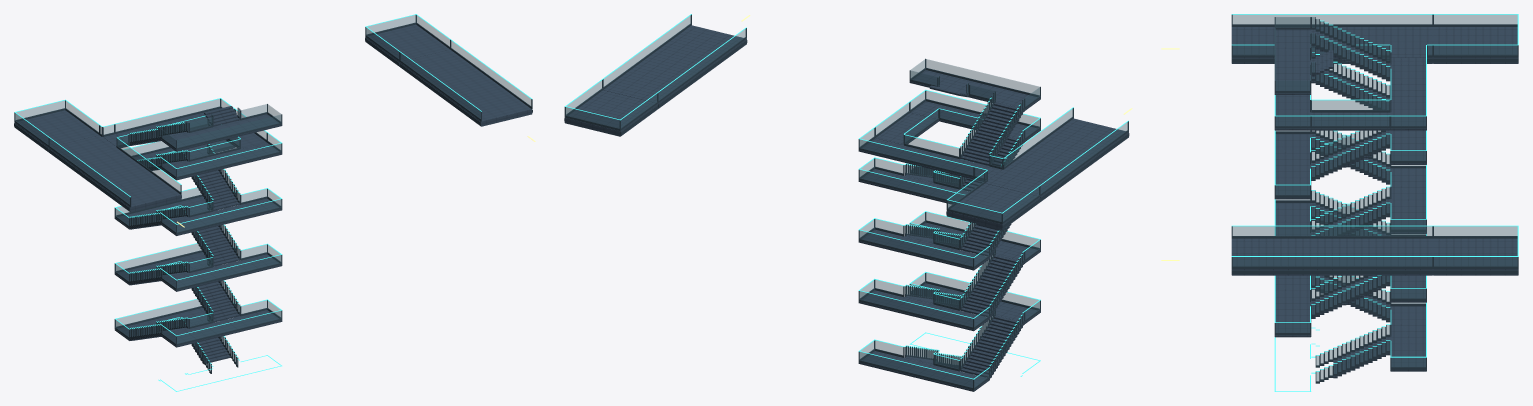
File: v02-detailed-01-03.glb
The picture shows the model from 3 angles, left to right: view 1: azimuth 30°, elevation 25°; view 2: azimuth 150°, elevation 25°; view 3: azimuth 270°, elevation 25°; orthographic projection. The views are drawn at different scales.
Parts seen in each view (by area): view 1: v02-detailed-01-03; view 2: v02-detailed-01-03; view 3: v02-detailed-01-03.
Boxes of the visible parts, box(x1,y1,x2,y2) form: v02-detailed-01-03: box(14, 14, 535, 391); v02-detailed-01-03: box(564, 14, 1132, 391); v02-detailed-01-03: box(1161, 14, 1518, 391).
Bounding box in the file's own units: 47.1 × 29.02 × 29.25.
5 materials, 1 textured.
